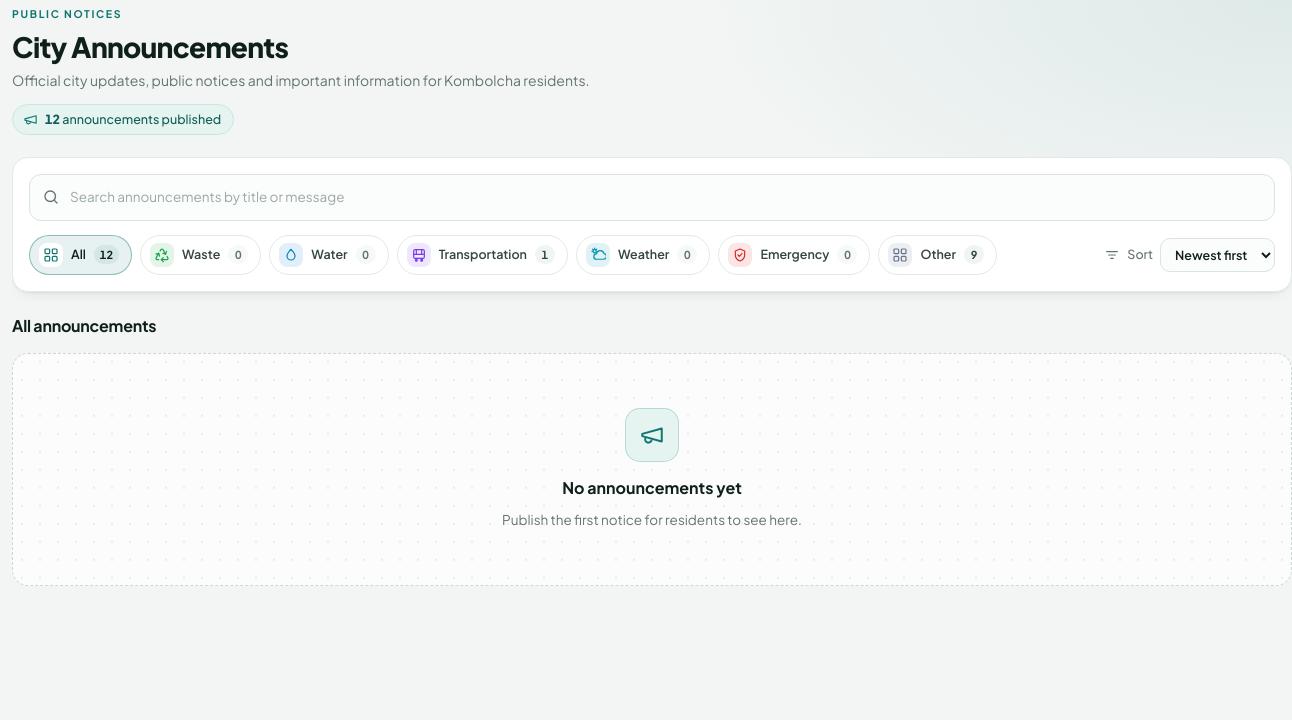
Test: Announcements feed › offers a reset action when no notice matches
The image size is (1292, 720).
Expected: the heading "No announcements yet" is shown, [562,476,742,500]
Click the button "Waste 0".
click(201, 255)  # box [140,235,261,275]
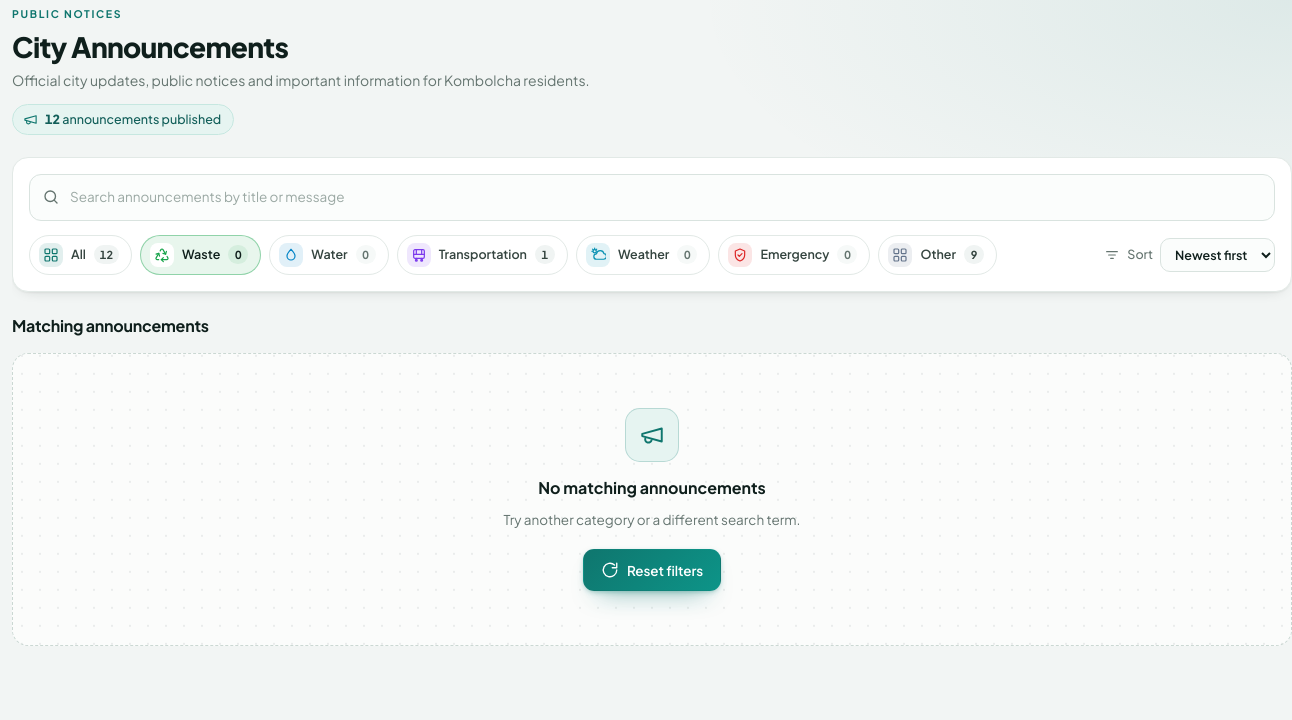
Expected: the heading "No matching announcements" is shown, [538,476,766,500]
Click the button "Reset filters".
click(652, 570)  # box [583,549,721,591]
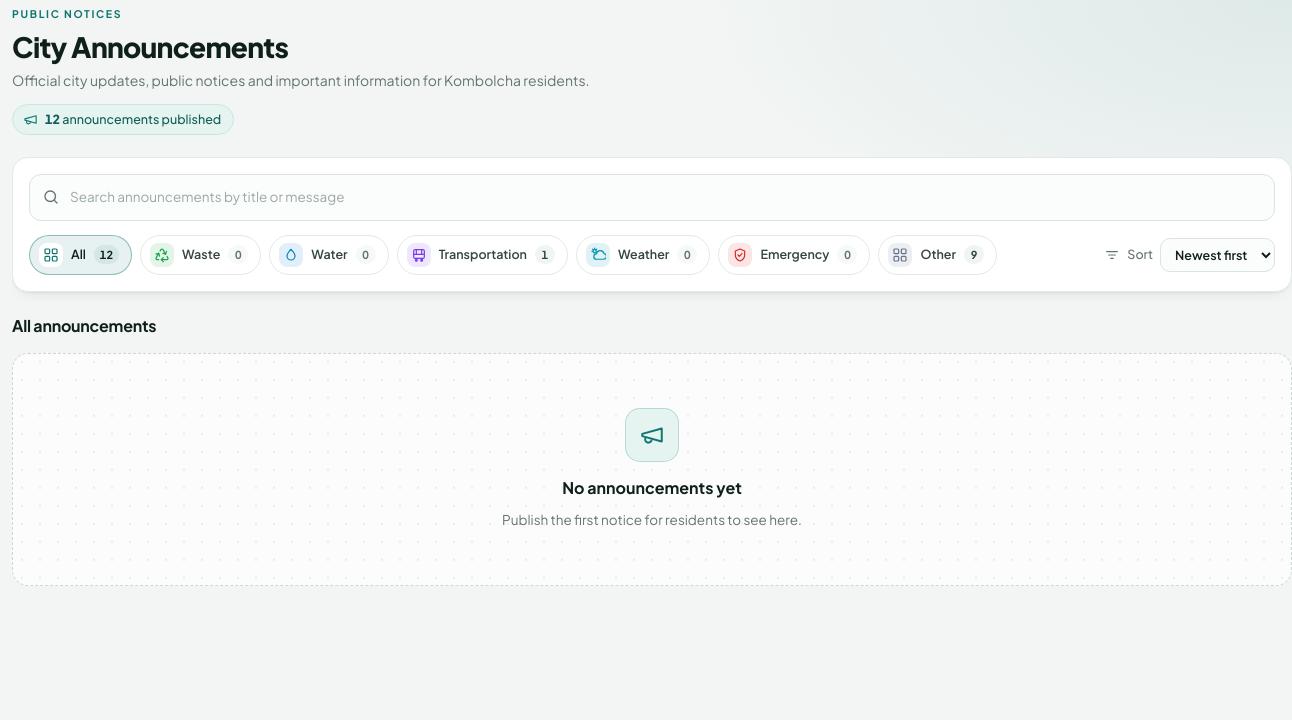
Expected: the heading "No announcements yet" is shown, [562,476,742,500]
